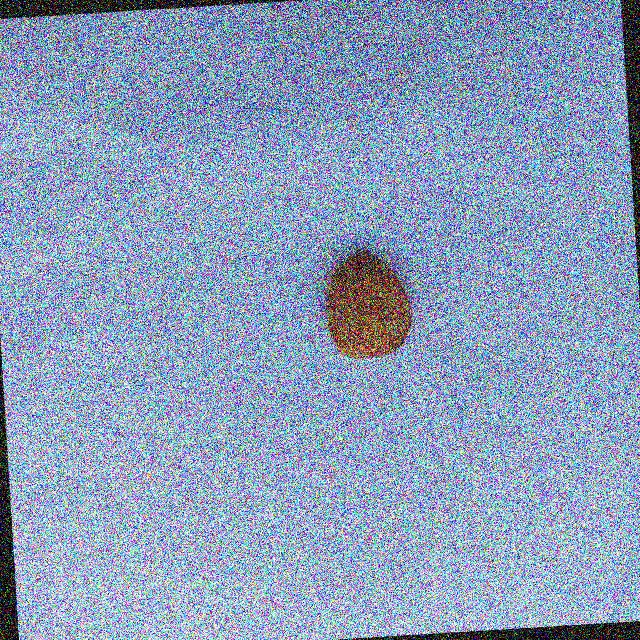grade1: (312, 241, 421, 368)
